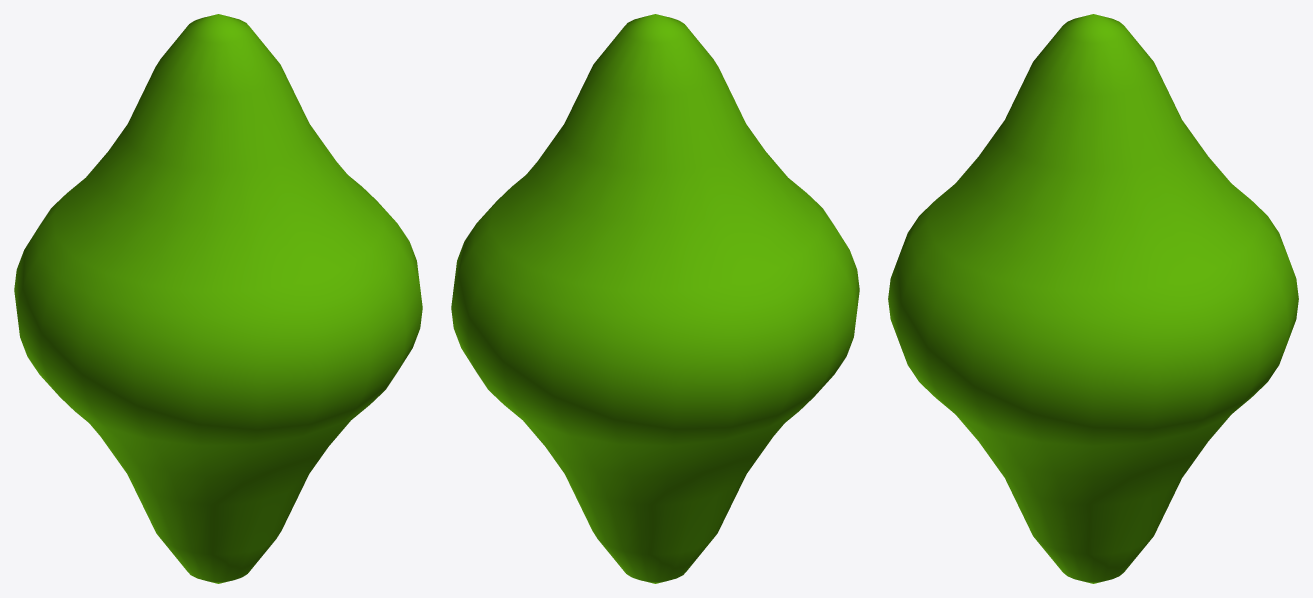
File: Lantern.obj
The picture shows the model from 3 angles, left to right: view 1: azimuth 30°, elevation 25°; view 2: azimuth 150°, elevation 25°; view 3: azimuth 270°, elevation 25°; orthographic projection.
Visible parts, largest first — view 1: pSphere1; view 2: pSphere1; view 3: pSphere1.
Boxes of the visible parts, box(x1,y1,x2,y2) form: pSphere1: box(14, 14, 422, 583); pSphere1: box(451, 14, 859, 583); pSphere1: box(888, 14, 1298, 583).
Bounding box in the file's own units: 6 × 9.19 × 6.
